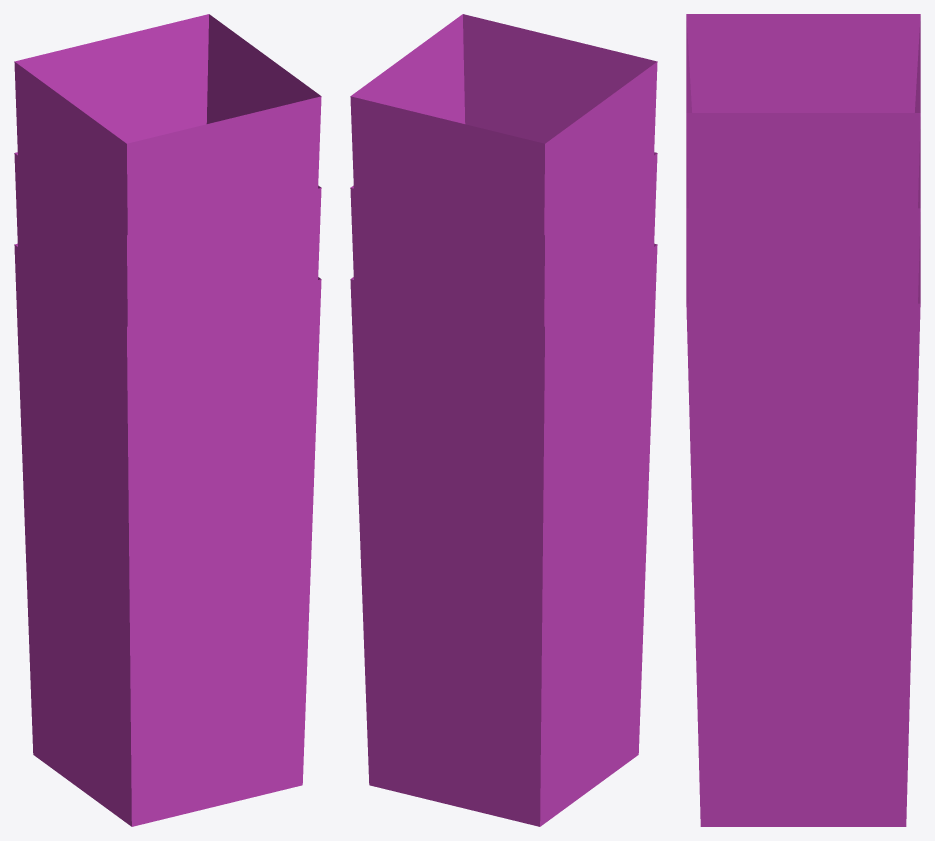
Rendered from Bags.fbx.
3 views of the same model, side by side, from view 1: azimuth 30°, elevation 25°; view 2: azimuth 150°, elevation 25°; view 3: azimuth 270°, elevation 25° (orthographic). The views are drawn at different scales.
Parts seen in each view (by area): view 1: Bag; view 2: Bag; view 3: Bag.
Part boxes in pixels (x1,y1,x2,y2): Bag: (14,14,321,826); Bag: (350,14,657,826); Bag: (686,14,920,826).
Bounding box in the file's own units: 68.93 × 234 × 68.93.
